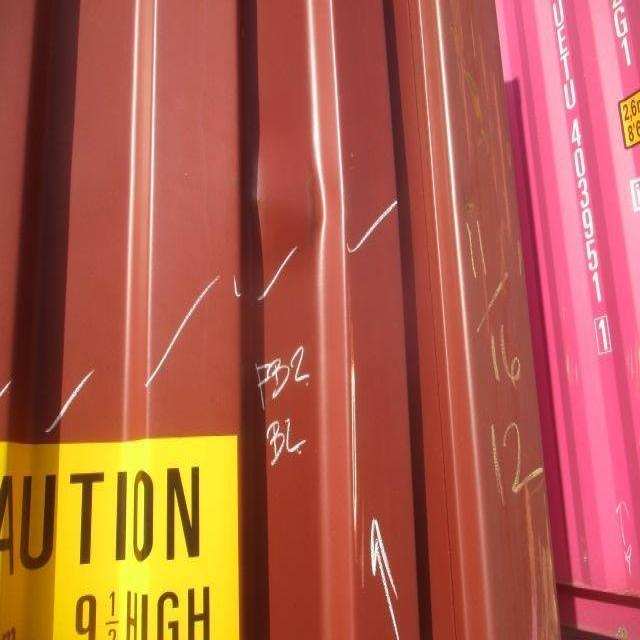dent: (233, 104, 350, 313)
